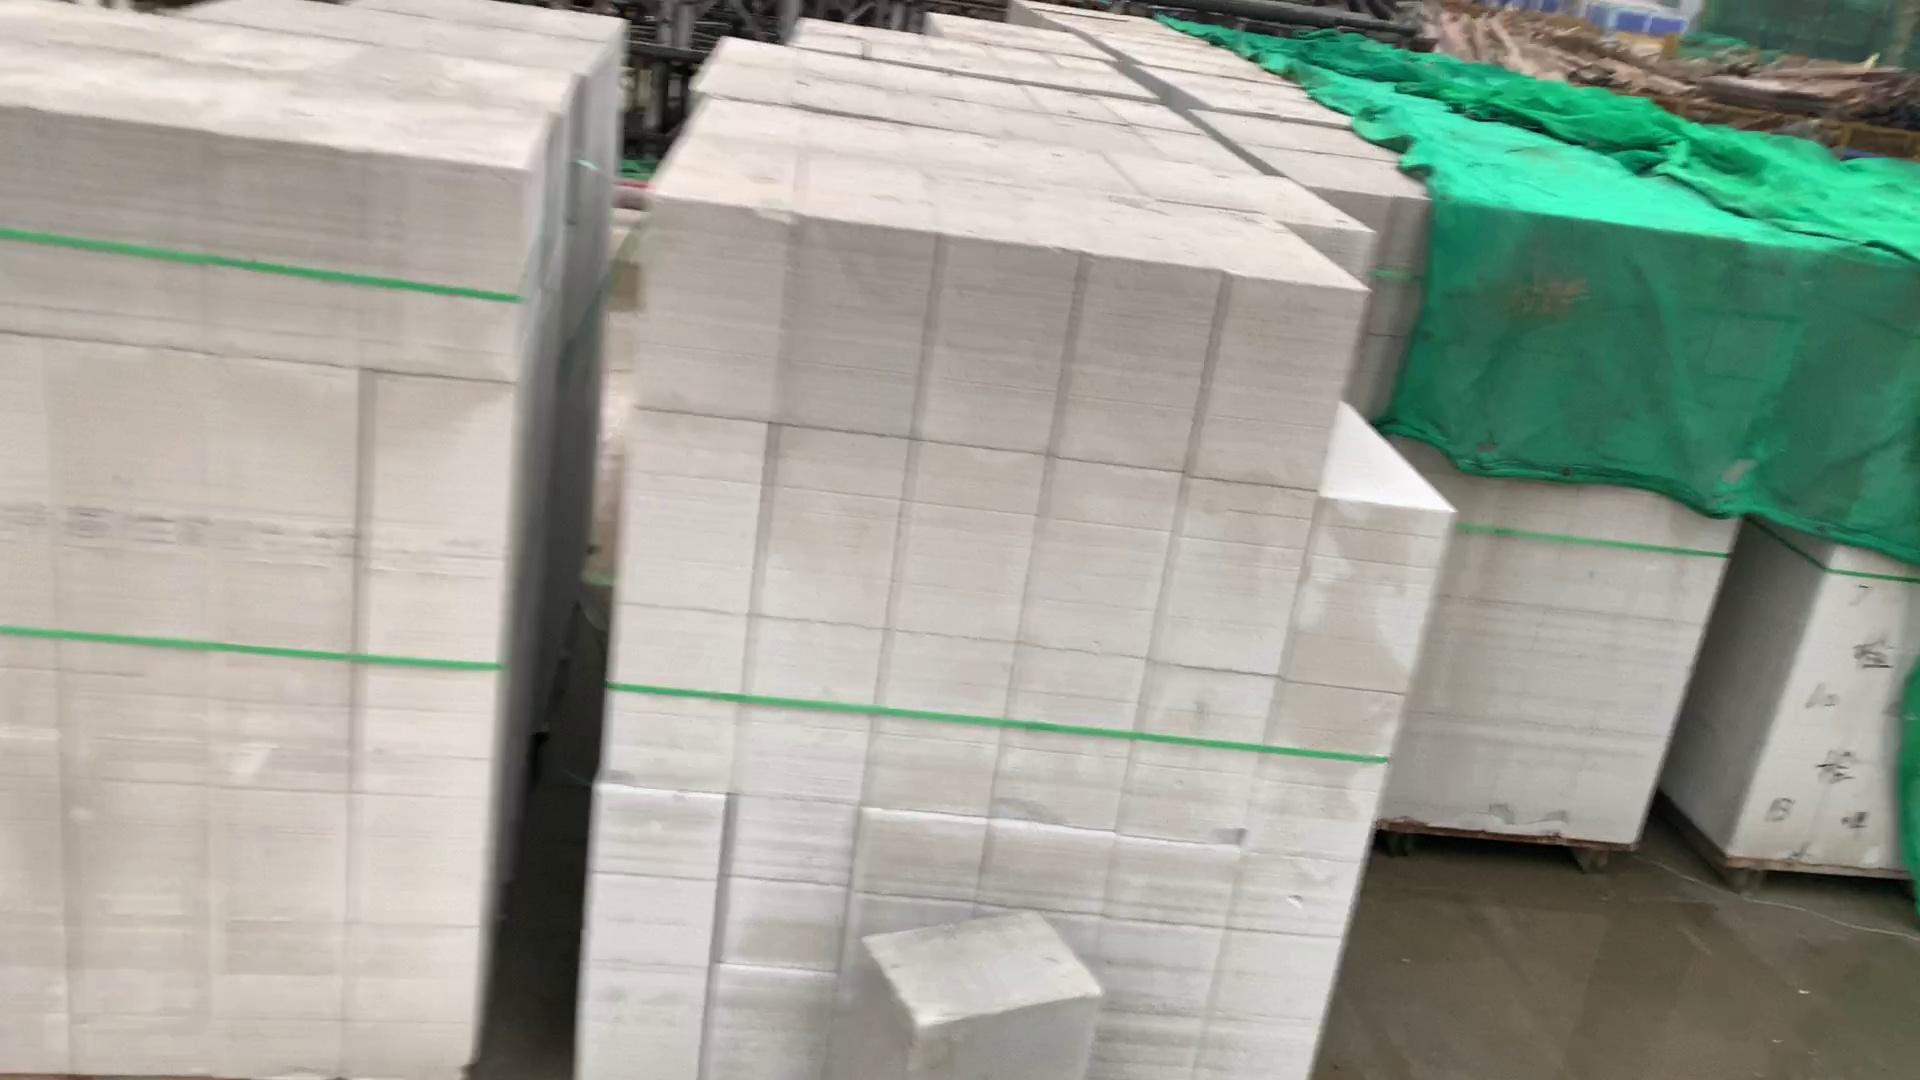brickwork: (620, 102, 1437, 1080), (3, 3, 527, 1080), (1232, 113, 1766, 873), (1702, 231, 1920, 872), (708, 37, 1262, 171), (195, 4, 630, 80), (802, 16, 1150, 100)
